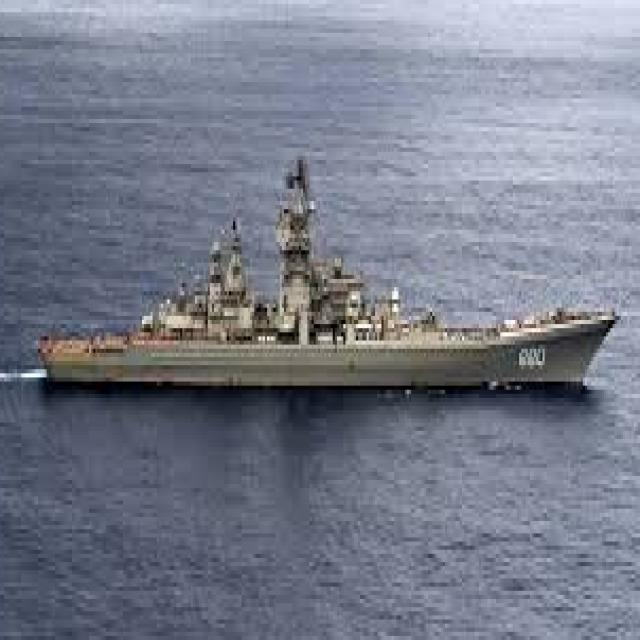navalvessels: (20, 156, 618, 393)
